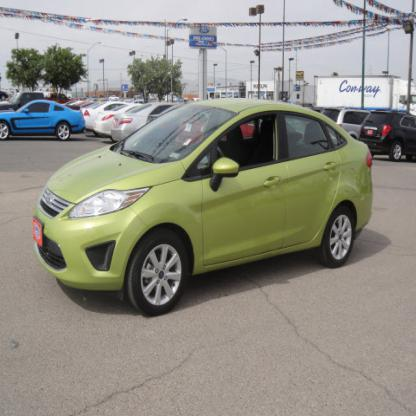Vehicle: (32, 99, 375, 318)
